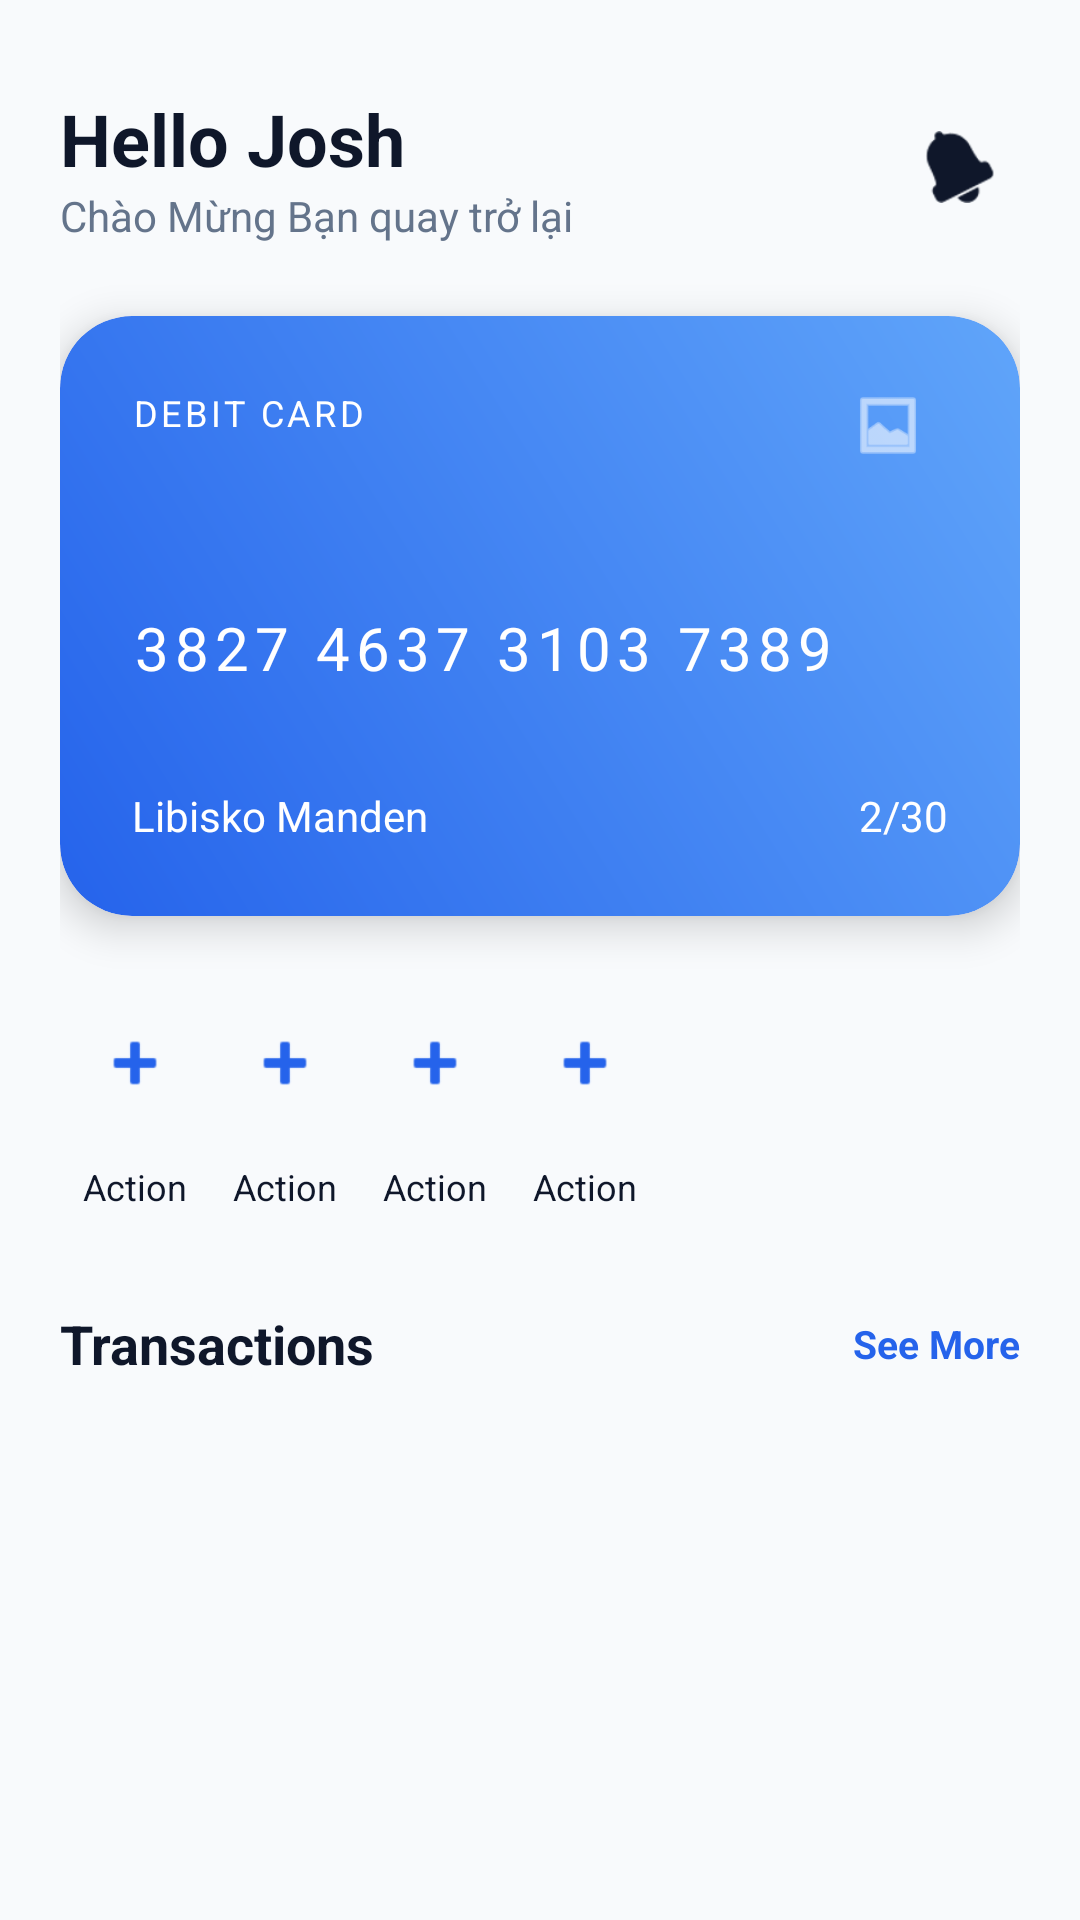

Where icons sit on this 1080 × 1920 app screen, as (x1,y1,x2,y2):
add: (113,1041,157,1085), (263,1041,307,1085), (413,1041,457,1085), (563,1041,607,1085)
popup reminder: (926,131,994,203)
